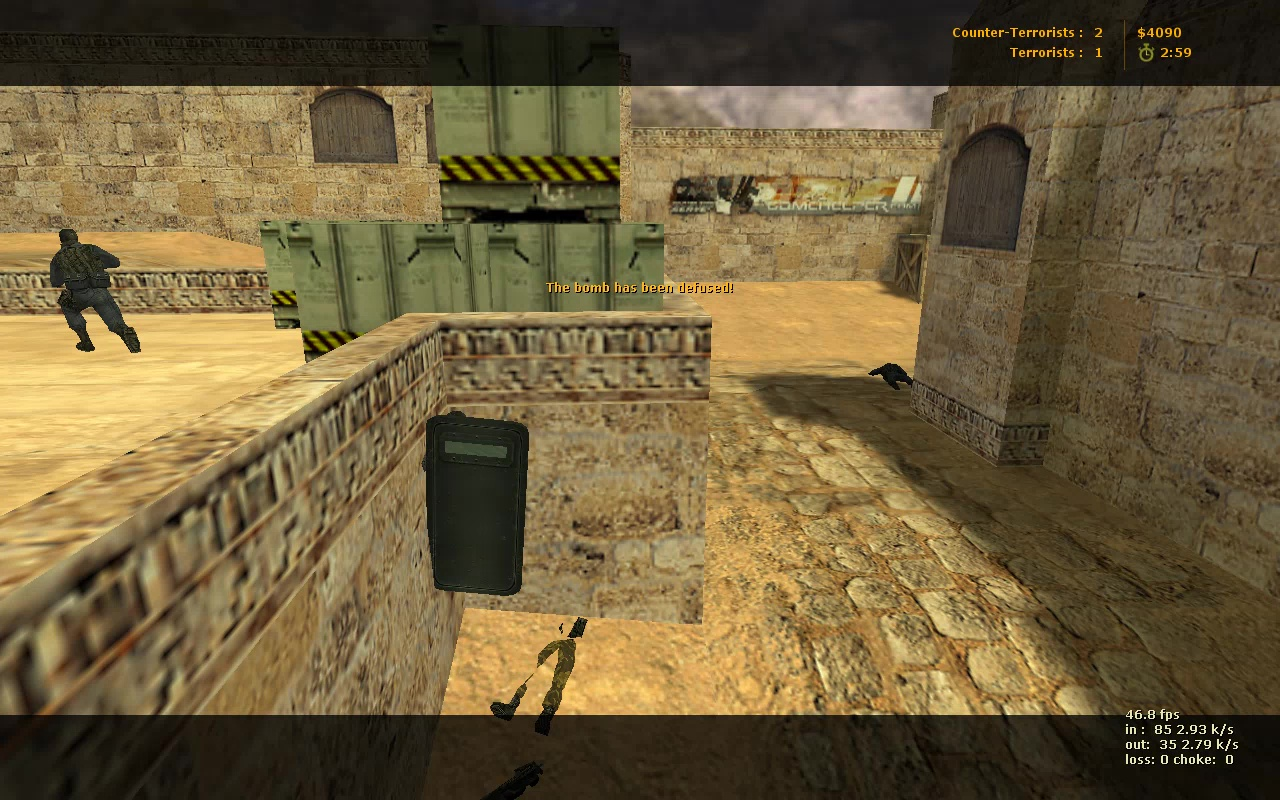ct: (423, 409, 528, 599), (47, 227, 145, 357)
dead: (870, 359, 916, 390)
